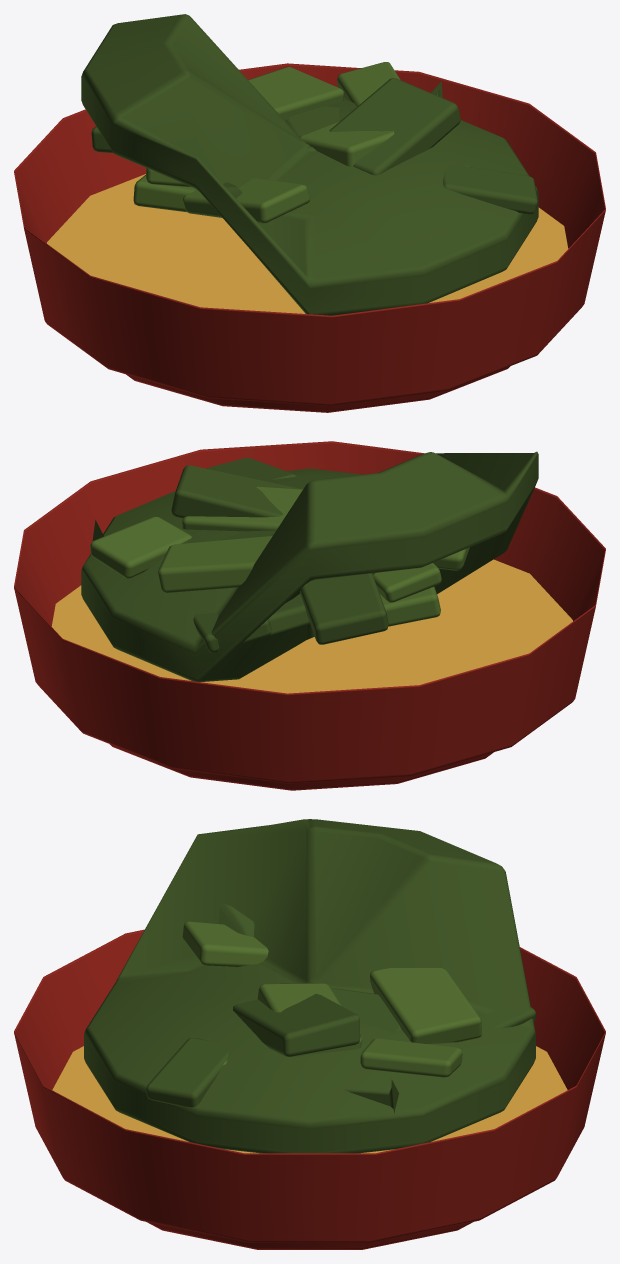
File: TeaLeaf.glb
The picture shows the model from 3 angles, top to bottom: view 1: azimuth 30°, elevation 25°; view 2: azimuth 150°, elevation 25°; view 3: azimuth 270°, elevation 25°; orthographic projection.
Visible parts, largest first — view 1: TeaLeaf; view 2: TeaLeaf; view 3: TeaLeaf.
Boxes of the visible parts, left/top/right/bottom form: TeaLeaf: left=14, top=14, right=605, bottom=412; TeaLeaf: left=14, top=441, right=605, bottom=790; TeaLeaf: left=14, top=819, right=605, bottom=1249.
Size of the model in its own units: 0.1457 by 0.0806 by 0.1495.
